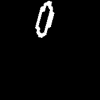chain: (35, 1, 53, 37)
